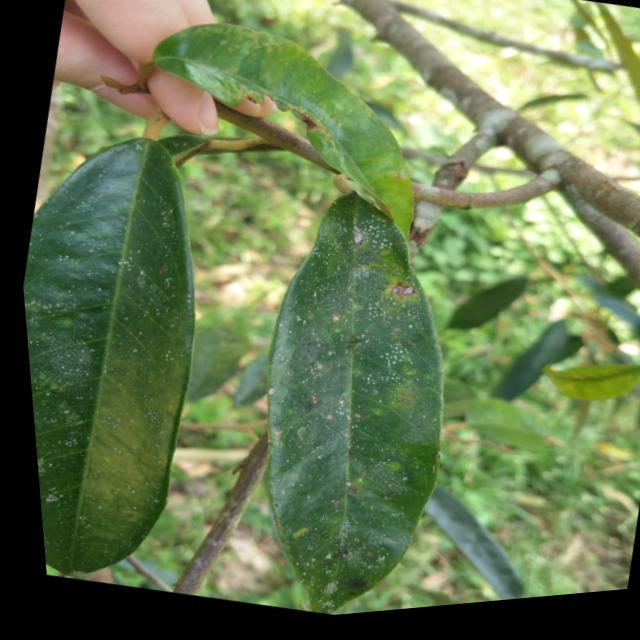Leaf Spot: (228, 216, 505, 625), (12, 167, 228, 566)
